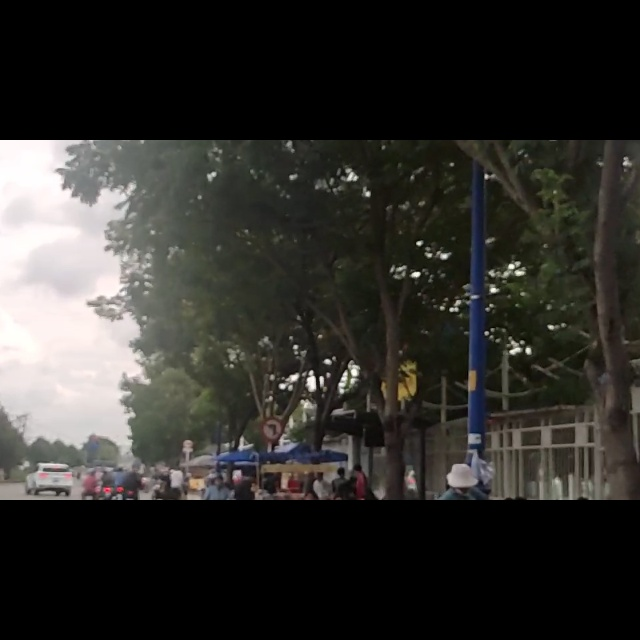bien_cam: (259, 495, 283, 532)
